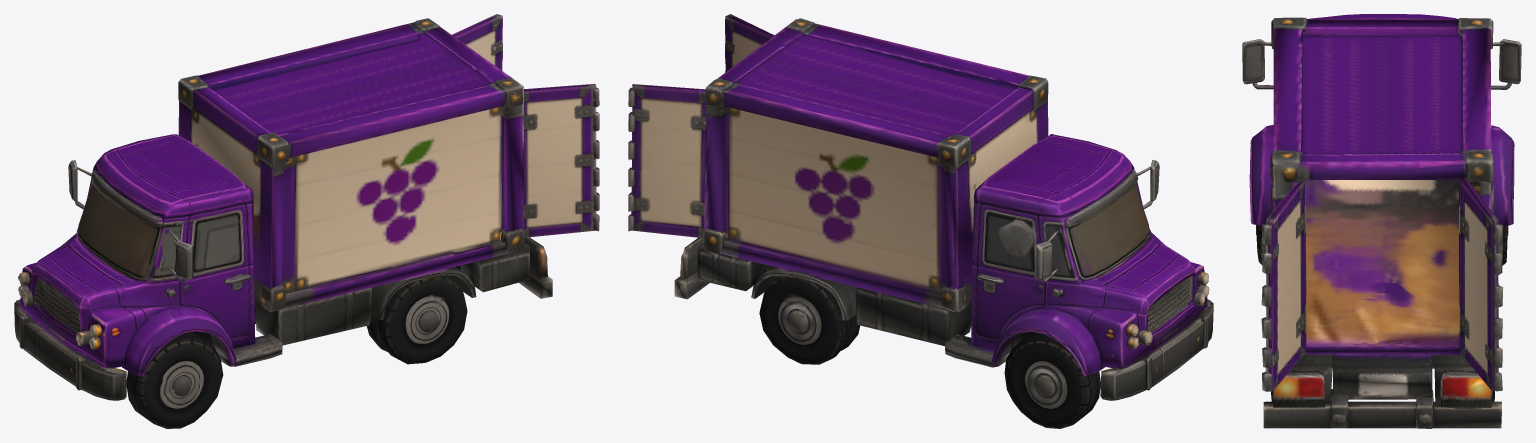
The model's file is Delivery_truck_doors.glb.
3 views of the same model, side by side, from view 1: azimuth 30°, elevation 25°; view 2: azimuth 150°, elevation 25°; view 3: azimuth 270°, elevation 25° (orthographic). The views are drawn at different scales.
Bounding box in the file's own units: 1 × 0.4919 × 0.4117.
1 material, 1 textured.
